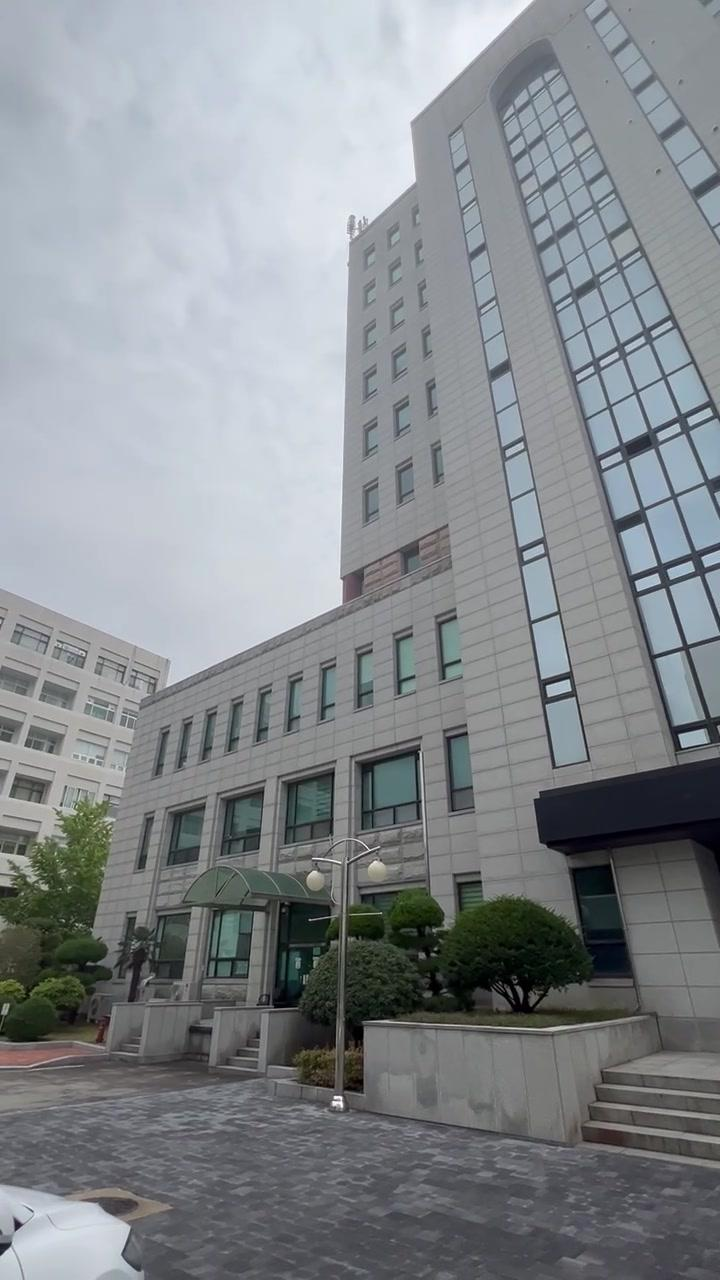building: (212, 56, 720, 850)
